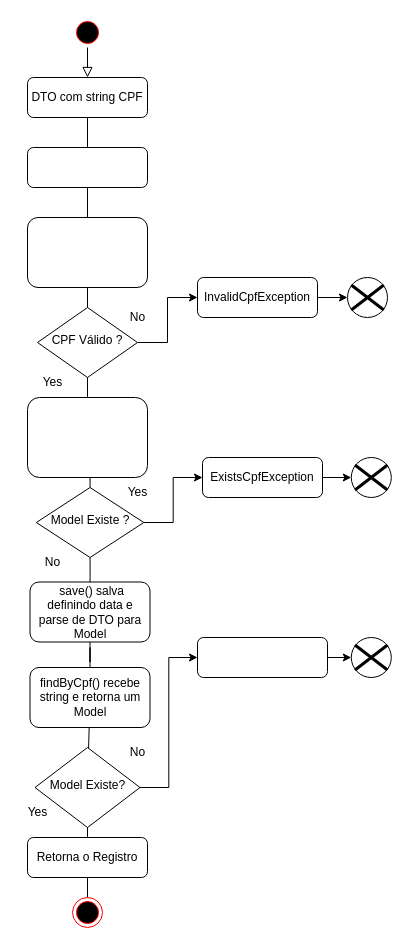
Some shapes in this 409 by 945 pixel diagram are drawn without their labels. Here are the shapes that lost their labels. From the top down, the box of each, then its label:
(26, 146, 148, 188): clearCpf() limpa string CPF
(26, 216, 148, 288): cpfValidator() recebe string, transforma em array de inteiros e valida
(26, 396, 148, 478): cpfAlreadyExists() recebe uma string e valida se o Model retornado está presente
(196, 636, 328, 678): NotFoundCpfException
